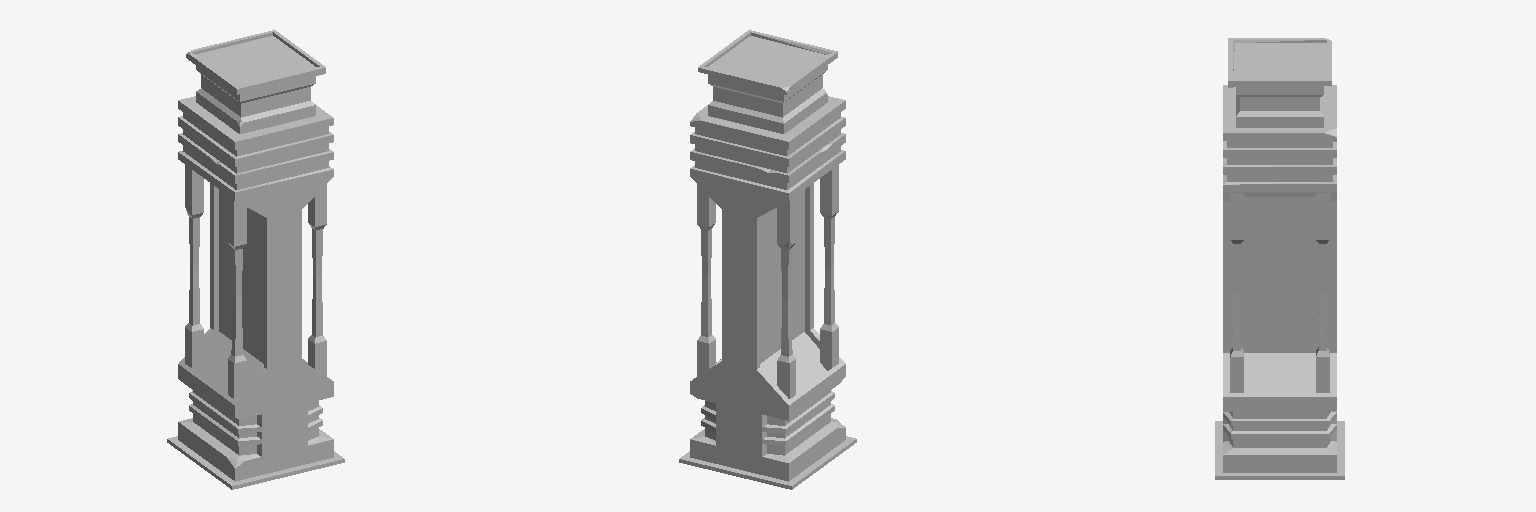
Rendered from SciFi_Building_Large03.obj.
3 views of the same model, side by side, from view 1: azimuth 30°, elevation 25°; view 2: azimuth 150°, elevation 25°; view 3: azimuth 270°, elevation 25° (orthographic).
Parts seen in each view (by area): view 1: SM_Bld_Large_03; view 2: SM_Bld_Large_03; view 3: SM_Bld_Large_03.
Part boxes in pixels (left/top/right/bottom): SM_Bld_Large_03: left=167, top=30, right=344, bottom=489; SM_Bld_Large_03: left=679, top=30, right=856, bottom=489; SM_Bld_Large_03: left=1215, top=38, right=1344, bottom=479.
Bounding box in the file's own units: 0.3 × 1 × 0.3.